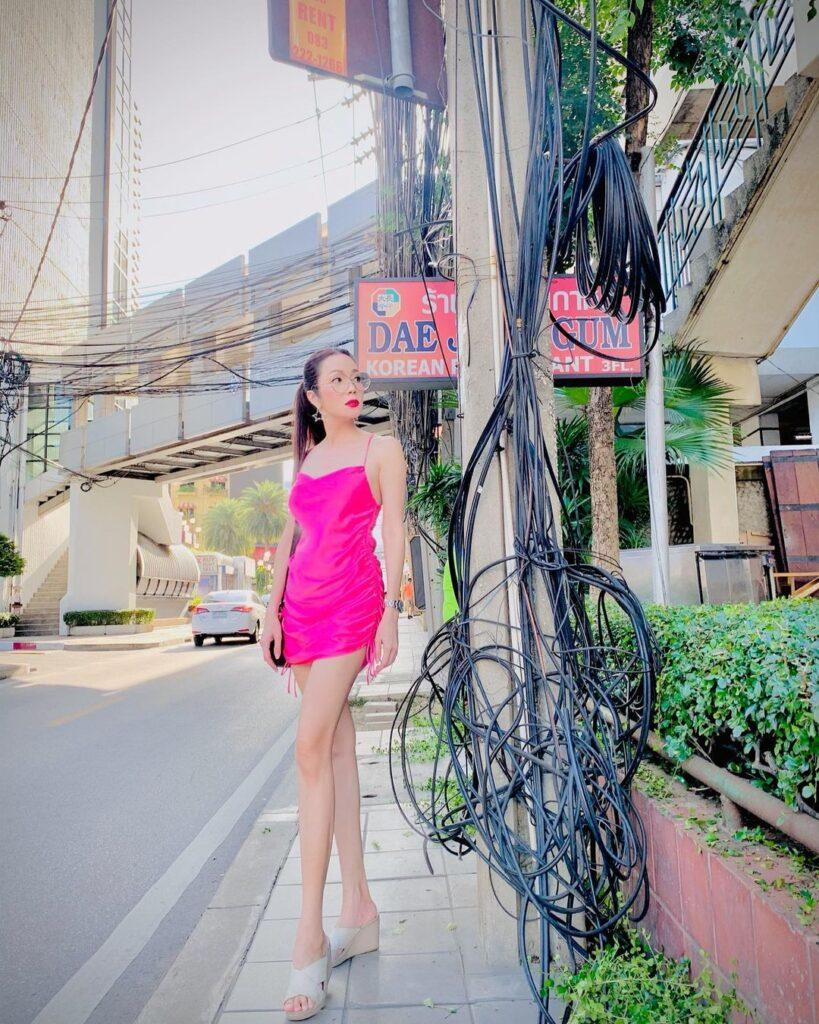wires: (541, 147, 667, 300)
wires-only: (465, 567, 597, 917)
